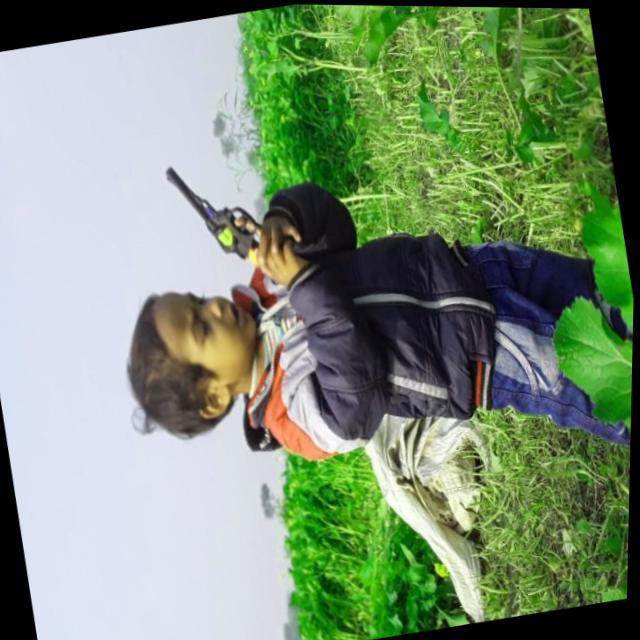weapon: (157, 138, 310, 298)
